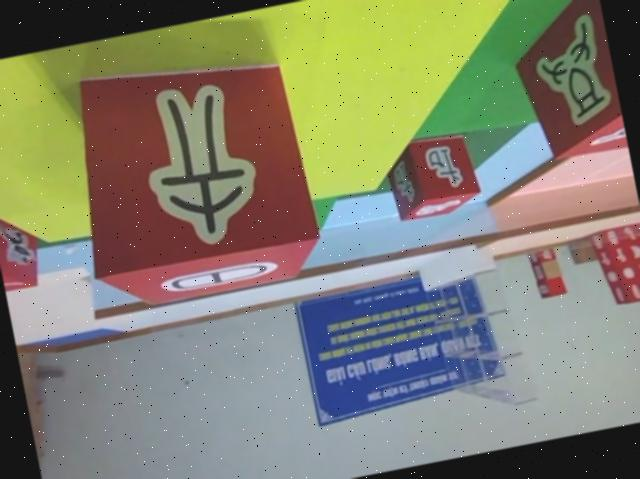R1: (0, 194, 47, 295)
R2 Fake: (54, 38, 329, 321)
R2 Real: (496, 0, 628, 169), (378, 129, 485, 226)
